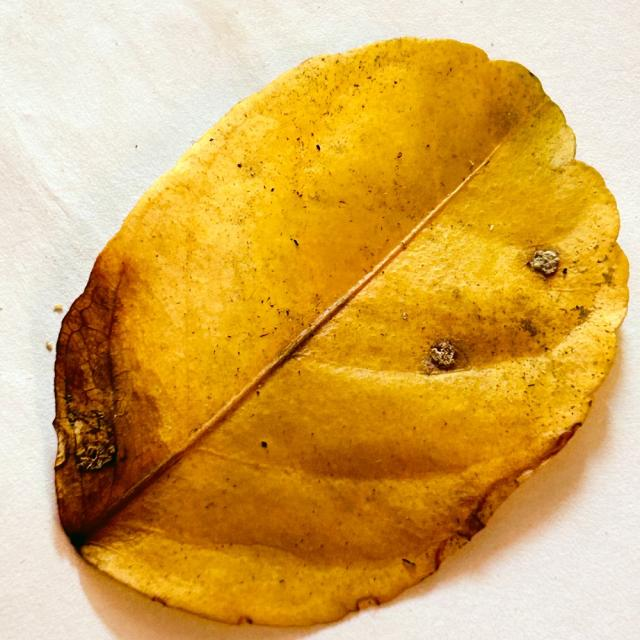DryLeaf_Lemon: (53, 38, 628, 626)
